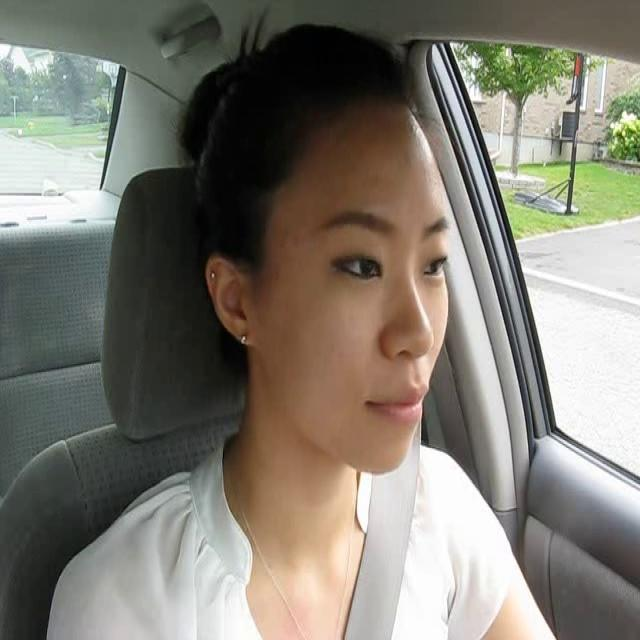close: (363, 377, 430, 426)
